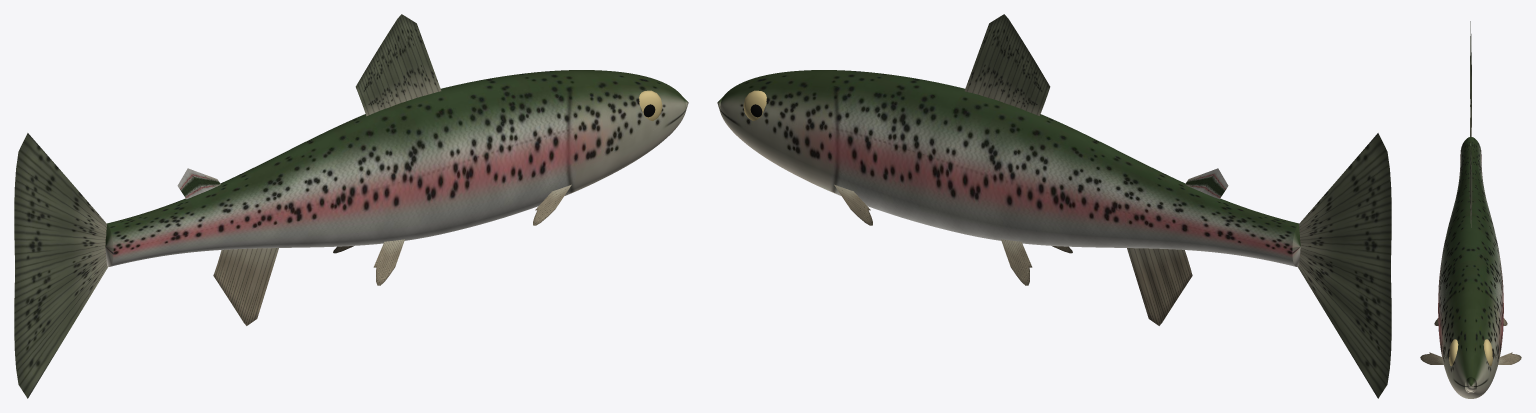
Rendered from fish_trout.gltf.
3 renders of one model, left to right at view 1: azimuth 30°, elevation 25°; view 2: azimuth 150°, elevation 25°; view 3: azimuth 270°, elevation 25°, orthographic. The views are drawn at different scales.
Visible parts, largest first — view 1: fish_trout; view 2: fish_trout; view 3: fish_trout.
Part boxes in pixels (bbox=[...]): fish_trout: bbox=[14, 14, 688, 398]; fish_trout: bbox=[717, 14, 1391, 398]; fish_trout: bbox=[1420, 21, 1521, 398].
Bounding box in the file's own units: 0.3965 × 0.165 × 0.0628.
7 materials, 5 textured.
